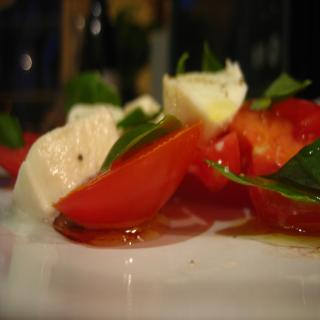tomato: (50, 118, 202, 230), (210, 98, 320, 237)
